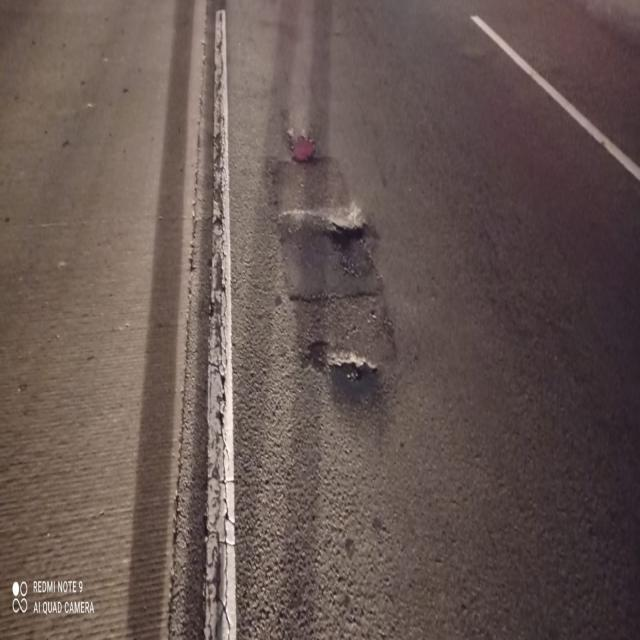Buraco: (312, 348, 388, 412), (321, 208, 384, 282), (278, 123, 331, 170)
